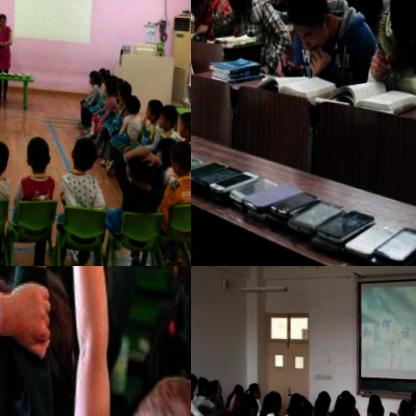head: (0, 298, 21, 416), (283, 0, 331, 48), (170, 266, 191, 372), (380, 0, 416, 48), (123, 145, 151, 190), (68, 135, 97, 172), (165, 140, 191, 181), (22, 137, 49, 172), (336, 0, 376, 21), (152, 137, 177, 170), (140, 95, 164, 125), (258, 388, 281, 416), (173, 107, 191, 139), (155, 103, 176, 130), (234, 391, 255, 416), (336, 388, 355, 414), (291, 397, 313, 416), (112, 80, 130, 102), (218, 0, 255, 10), (393, 397, 411, 416), (245, 380, 261, 401), (122, 97, 139, 116), (315, 388, 328, 410), (311, 396, 325, 415), (365, 393, 380, 410), (102, 75, 116, 93), (201, 382, 215, 400), (0, 136, 6, 177), (364, 401, 380, 416), (406, 388, 416, 410), (336, 405, 355, 416), (193, 375, 206, 391), (209, 377, 221, 393), (230, 382, 242, 397), (95, 65, 106, 81), (87, 71, 97, 87), (0, 13, 6, 29), (191, 369, 195, 390)
